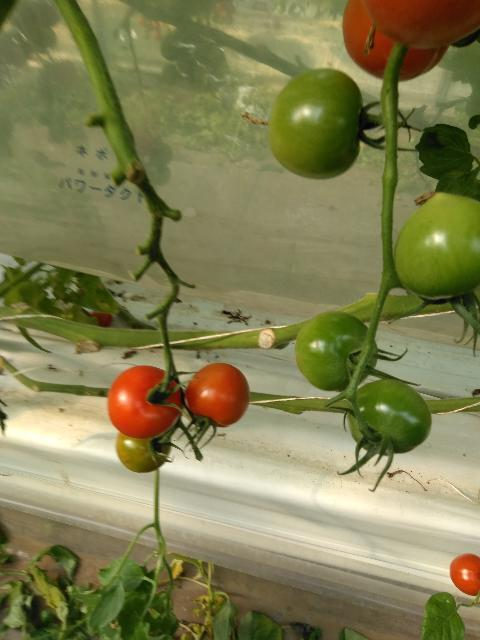l_fully_ripened: (343, 0, 452, 82), (362, 0, 480, 50), (108, 365, 183, 439), (184, 362, 250, 429), (448, 553, 480, 596)
l_green: (268, 68, 364, 180), (393, 193, 480, 299), (294, 311, 378, 392), (346, 378, 433, 455)
l_half_ripened: (115, 431, 171, 473)
